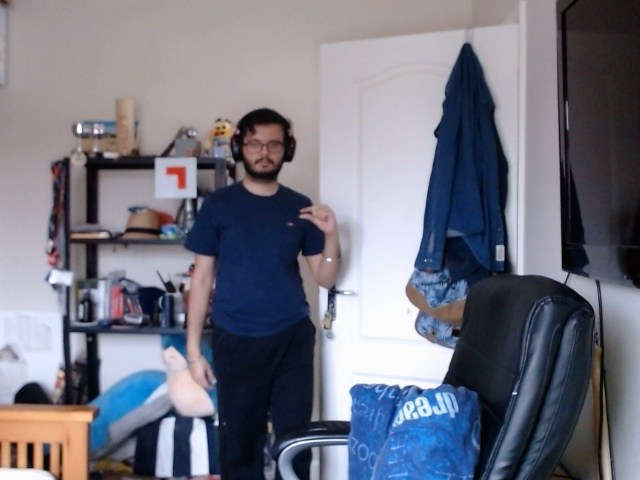Small: (294, 197, 340, 244)
